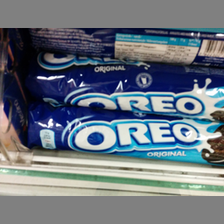chocolate: (24, 50, 224, 116), (25, 103, 224, 169)
